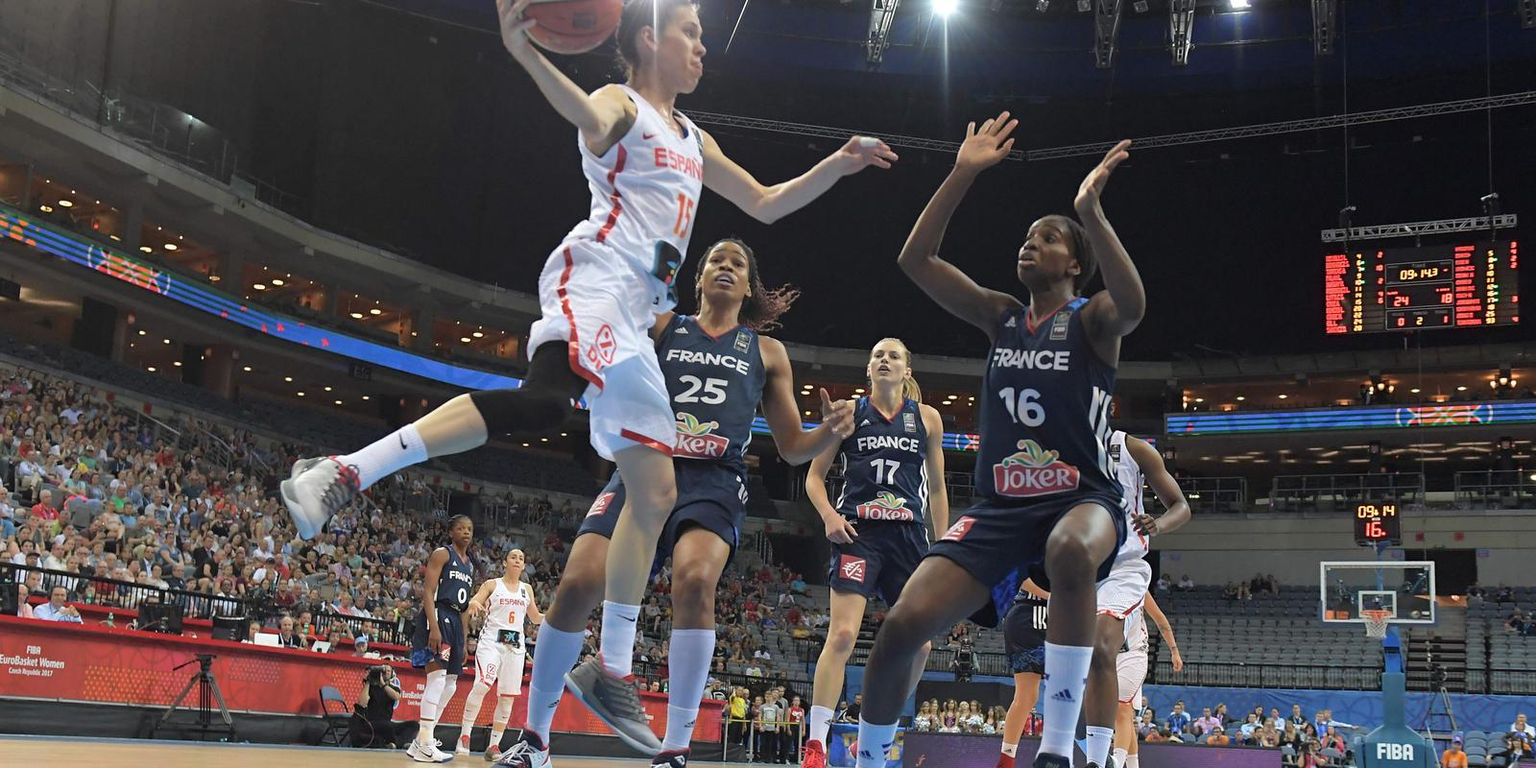basketball: (515, 0, 628, 57)
